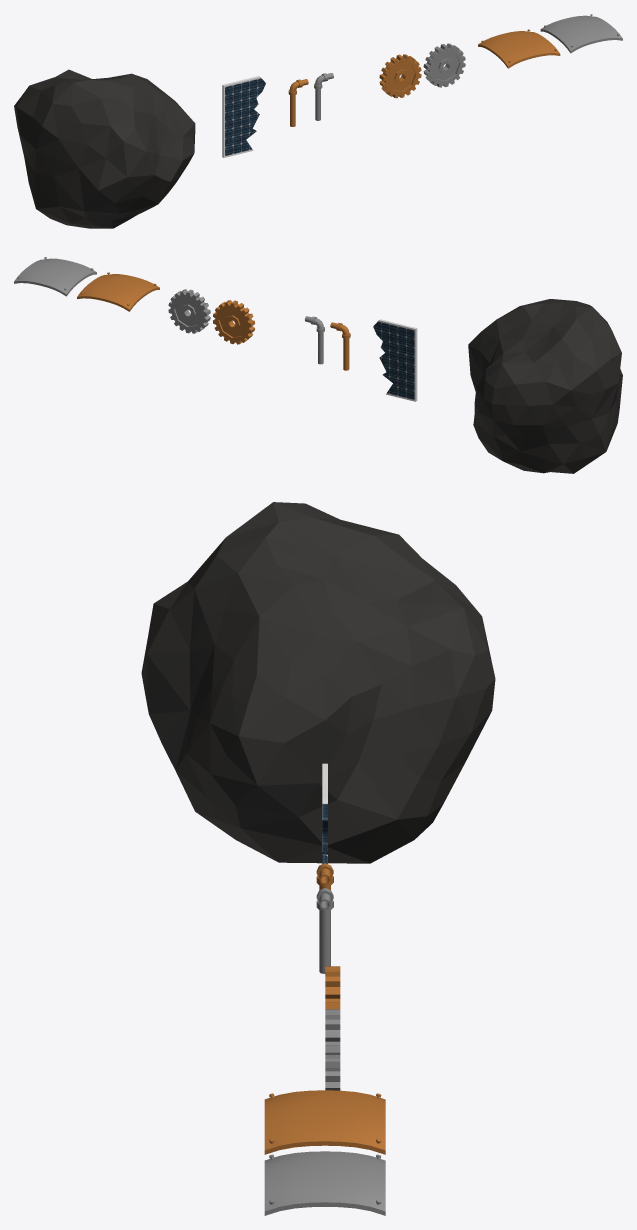
File: cluttered scrap.fbx
The picture shows the model from 3 angles, top to bottom: view 1: azimuth 30°, elevation 25°; view 2: azimuth 150°, elevation 25°; view 3: azimuth 270°, elevation 25°; orthographic projection. The views are drawn at different scales.
Parts seen in each view (by area): view 1: Asteroid, Broken Solar Panel, Plane, Plane.001, Cog, Cog.001, Copper Pipe, Pipe; view 2: Asteroid, Broken Solar Panel, Plane, Plane.001, Cog.001, Cog, Copper Pipe, Pipe; view 3: Asteroid, Plane, Plane.001, Cog.001, Pipe.
Part boxes in pixels (<box>): Asteroid: <box>14,69,195,228</box>; Broken Solar Panel: <box>222,76,265,157</box>; Plane: <box>540,14,622,53</box>; Plane.001: <box>478,29,560,68</box>; Cog: <box>379,54,421,98</box>; Cog.001: <box>423,43,465,87</box>; Copper Pipe: <box>288,79,308,126</box>; Pipe: <box>314,73,333,120</box>; Asteroid: <box>468,299,622,473</box>; Broken Solar Panel: <box>373,319,417,401</box>; Plane: <box>14,257,96,296</box>; Plane.001: <box>77,272,159,311</box>; Cog.001: <box>168,289,210,333</box>; Cog: <box>213,300,255,344</box>; Copper Pipe: <box>330,322,350,370</box>; Pipe: <box>305,316,324,364</box>; Asteroid: <box>141,502,495,863</box>; Plane: <box>264,1151,385,1215</box>; Plane.001: <box>264,1090,385,1154</box>; Cog.001: <box>325,1009,340,1090</box>; Pipe: <box>316,888,333,973</box>.
Bounding box in the file's own units: 2219 × 565 × 586.
